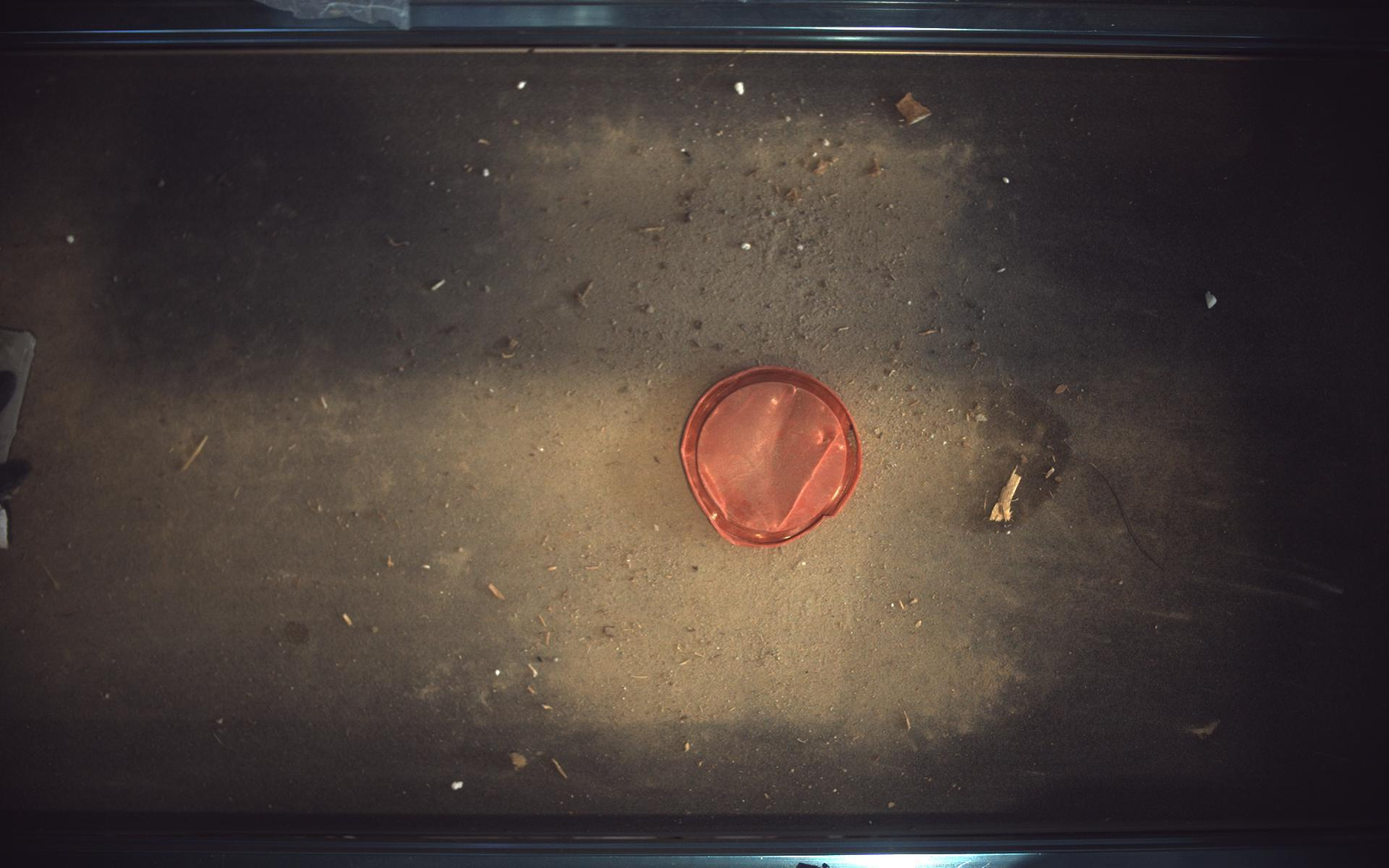plastic: (681, 366, 864, 548)
